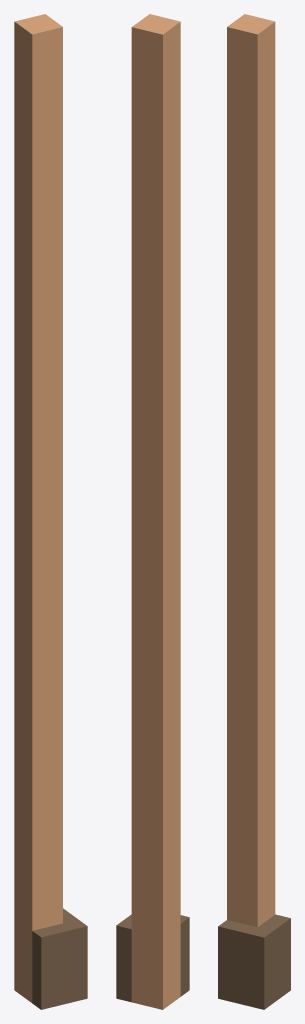
File: Mesh_WallBaseboard_D6.fbx
3 renders of one model, left to right at view 1: azimuth 30°, elevation 25°; view 2: azimuth 150°, elevation 25°; view 3: azimuth 330°, elevation 25°, orthographic.
Visible parts, largest first — view 1: Mesh_WallBaseboard_D6; view 2: Mesh_WallBaseboard_D6; view 3: Mesh_WallBaseboard_D6.
Part boxes in pixels (x1,y1,x2,y2): Mesh_WallBaseboard_D6: [14, 14, 87, 1009]; Mesh_WallBaseboard_D6: [116, 14, 189, 1009]; Mesh_WallBaseboard_D6: [218, 14, 290, 1009].
Size of the model in its own units: 0.15 by 3 by 0.15.
